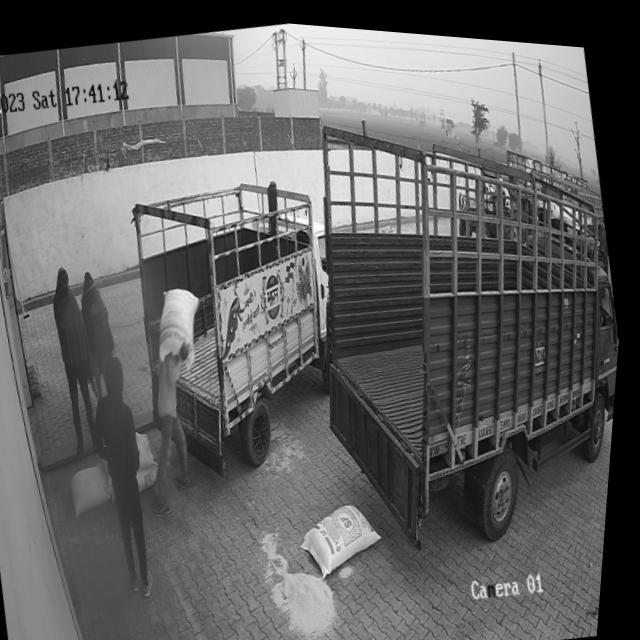sack: (300, 489, 396, 579), (151, 280, 215, 369), (73, 460, 125, 515)
